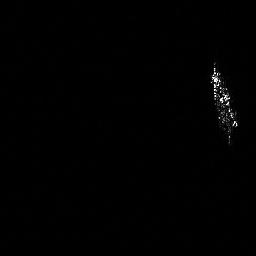ship: (209, 59, 239, 147)
